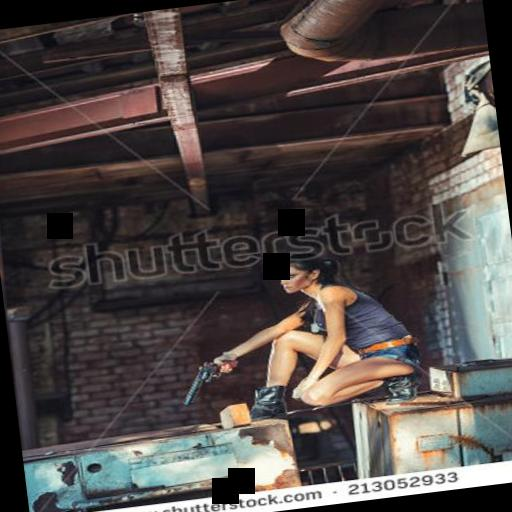Handgun: (174, 352, 241, 406)
